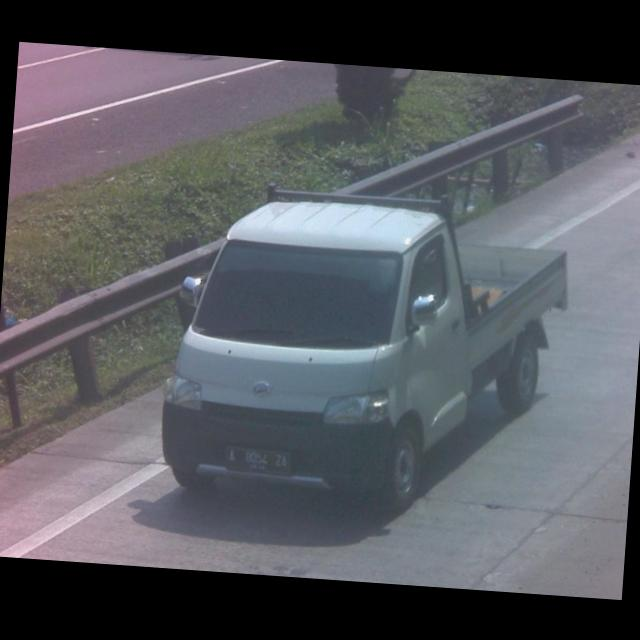plate: (222, 444, 290, 476)
